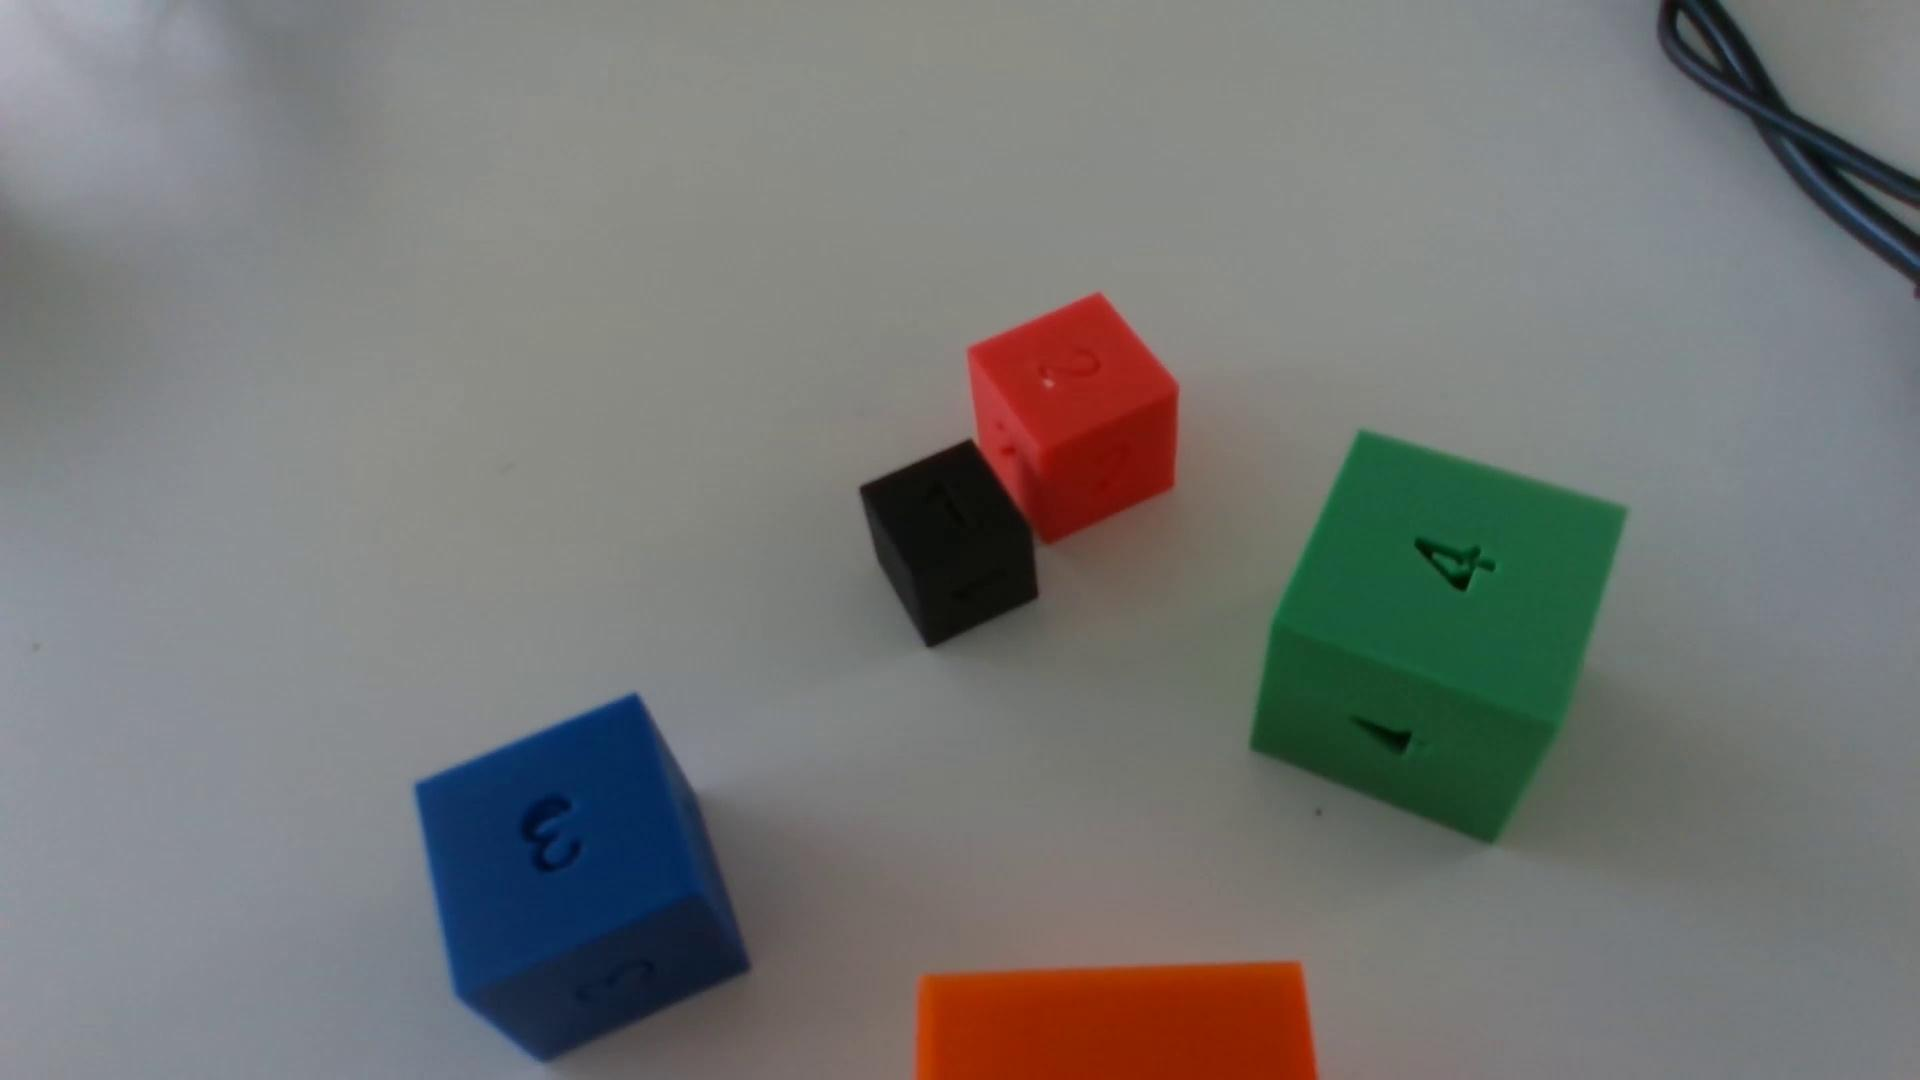black: (858, 442, 1038, 649)
blue: (415, 695, 750, 1062)
green: (1251, 433, 1626, 843)
orange: (914, 963, 1317, 1080)
red: (967, 295, 1179, 545)
